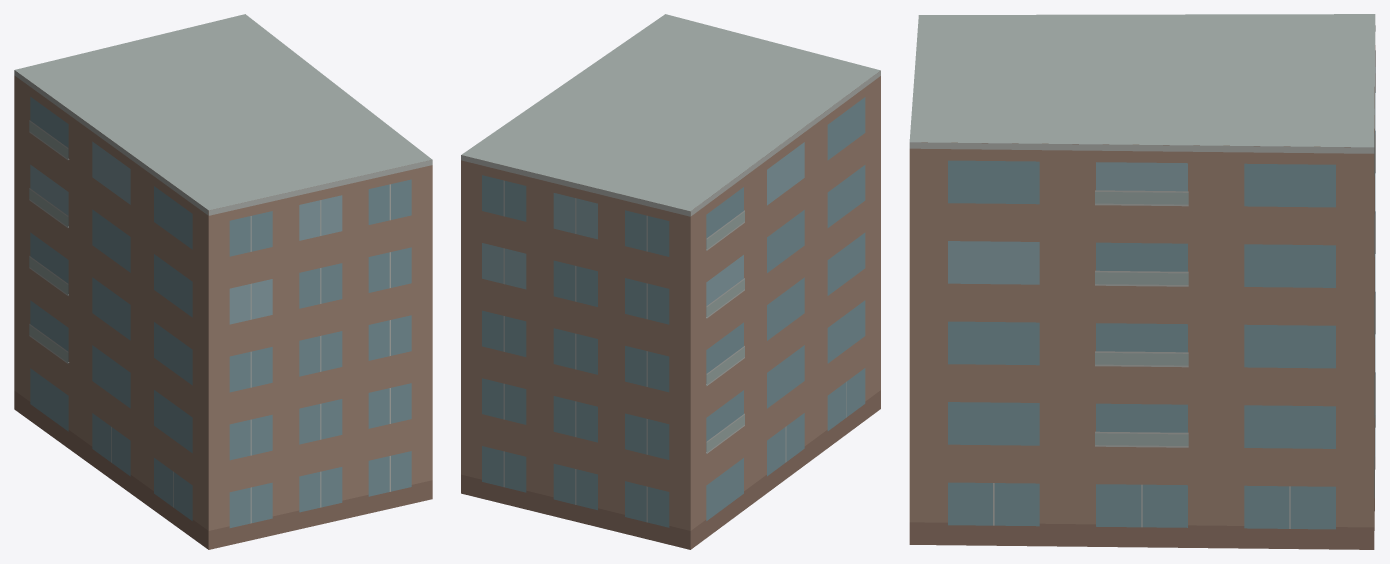
Rendered from survey-upis-32754439.glb.
The picture shows the model from 3 angles, left to right: view 1: azimuth 30°, elevation 25°; view 2: azimuth 150°, elevation 25°; view 3: azimuth 270°, elevation 25°; orthographic projection. The views are drawn at different scales.
Parts seen in each view (by area): view 1: survey-upis-32754439.tmp; view 2: survey-upis-32754439.tmp; view 3: survey-upis-32754439.tmp.
Boxes of the visible parts, x1,y1,x2,y2 form: survey-upis-32754439.tmp: [14, 14, 432, 549]; survey-upis-32754439.tmp: [461, 14, 880, 549]; survey-upis-32754439.tmp: [909, 14, 1375, 549].
Size of the model in its own units: 10.87 by 15.25 by 16.01.
